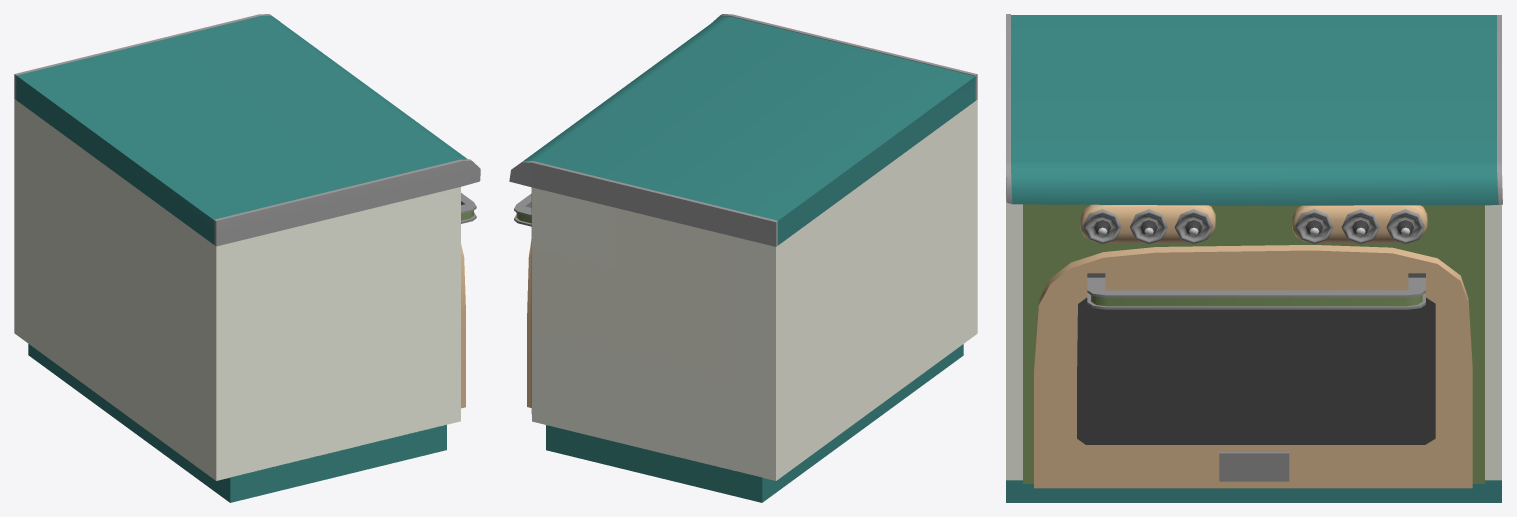
File: Big_oven.fbx
3 renders of one model, left to right at view 1: azimuth 30°, elevation 25°; view 2: azimuth 150°, elevation 25°; view 3: azimuth 270°, elevation 25°, orthographic. The views are drawn at different scales.
Visible parts, largest first — view 1: Worktable, Oven_door; view 2: Worktable, Oven_door; view 3: Worktable, Oven_door.
Boxes of the visible parts, bbox=[...] form: Worktable: bbox=[14, 14, 480, 502]; Oven_door: bbox=[461, 193, 476, 408]; Worktable: bbox=[509, 14, 977, 502]; Oven_door: bbox=[514, 193, 531, 407]; Worktable: bbox=[1006, 14, 1502, 502]; Oven_door: bbox=[1034, 245, 1472, 488].
Size of the model in its own units: 85.31 by 77.99 by 100.
